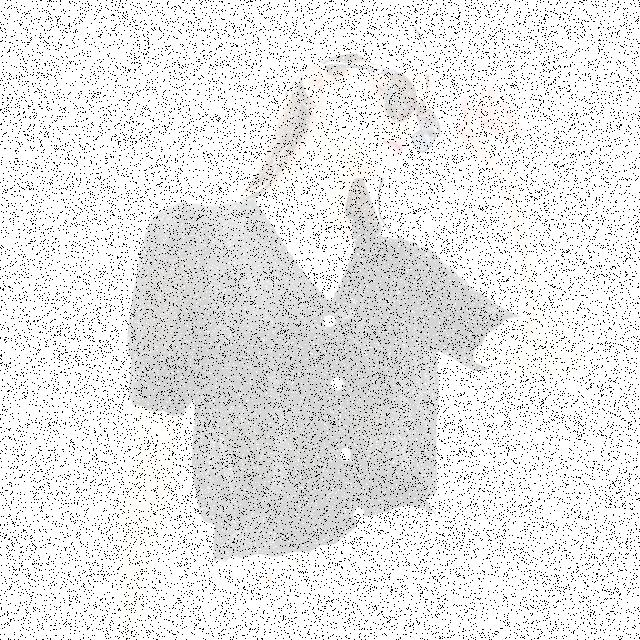Blouse_deep: (123, 200, 524, 567)
